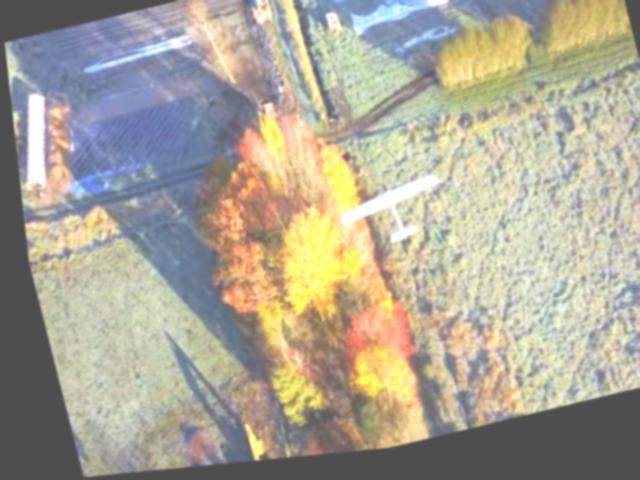uav: (320, 163, 454, 272)
